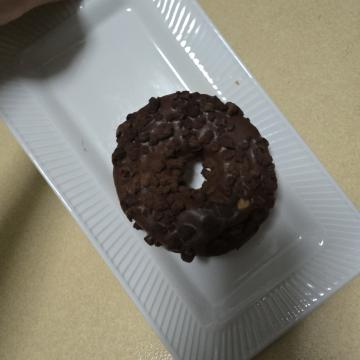doughnut: (83, 77, 280, 260)
